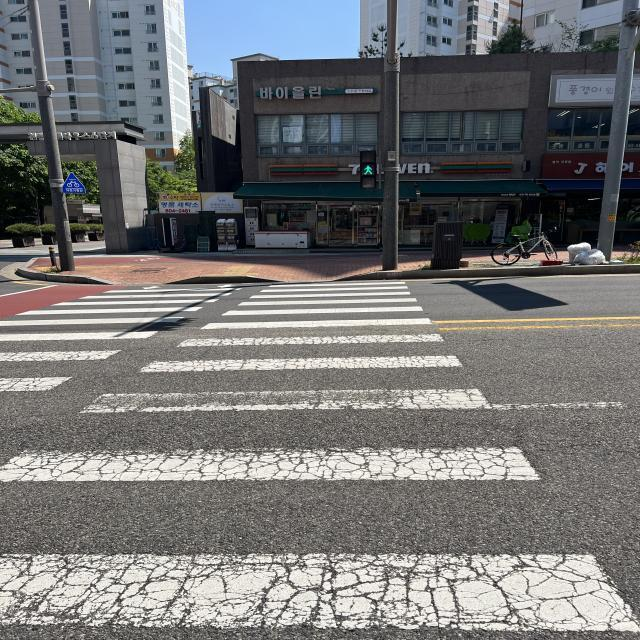crosswalk: (1, 279, 640, 640)
green-light: (357, 150, 384, 193)
